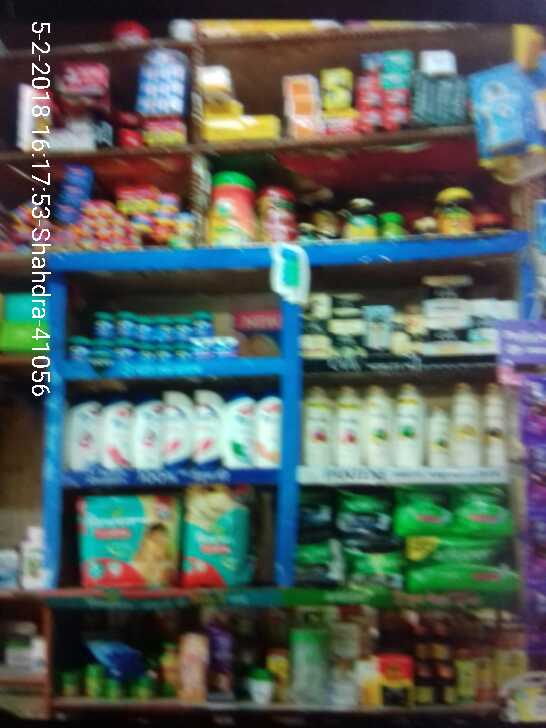vicks: (64, 304, 241, 361)
